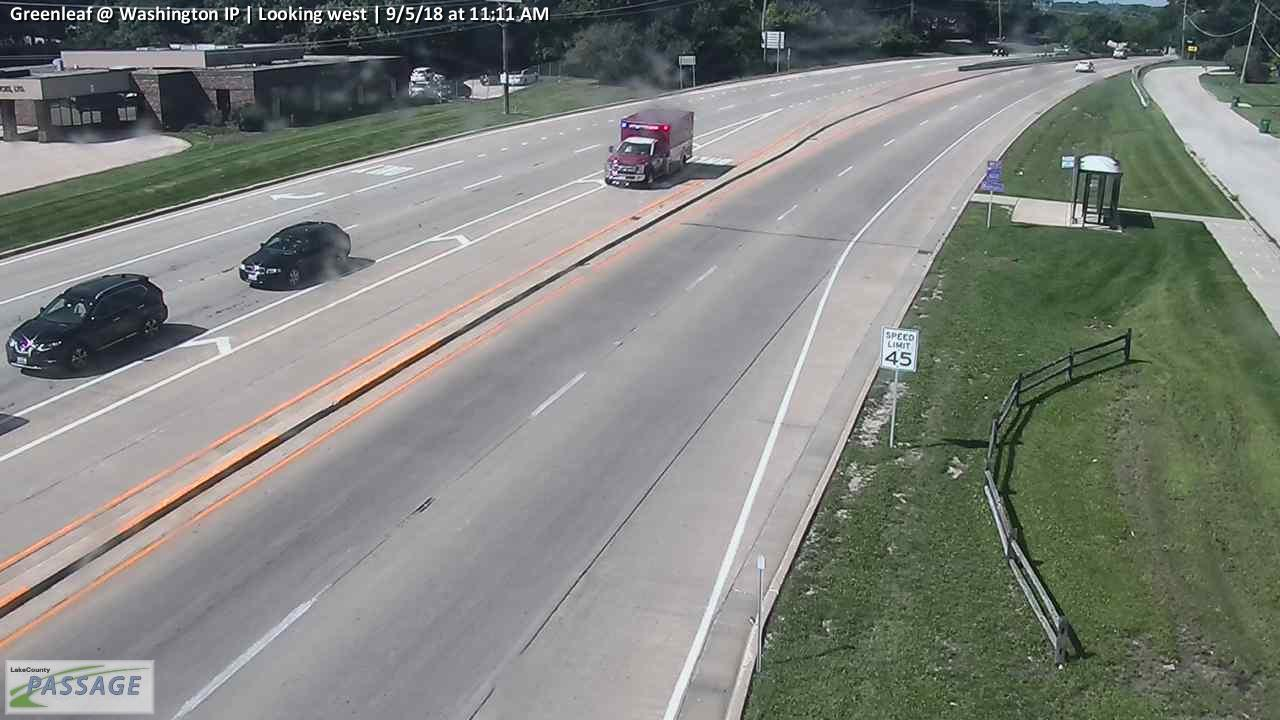SUV: (5, 274, 168, 371), (1113, 47, 1128, 59)
Sedan: (238, 221, 351, 291), (500, 65, 538, 87), (411, 66, 434, 85), (1074, 60, 1096, 72), (993, 47, 1008, 56)
Truck: (604, 106, 695, 187)
